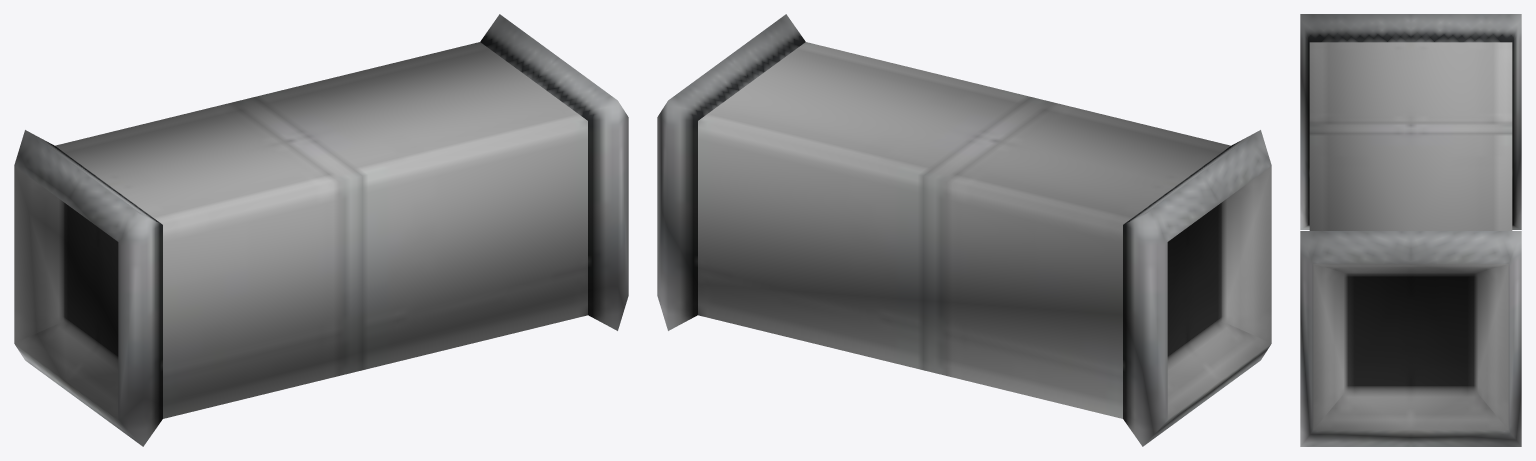
Rendered from Part - Tube 05 half-C6QrPu98.glb.
The picture shows the model from 3 angles, left to right: view 1: azimuth 30°, elevation 25°; view 2: azimuth 150°, elevation 25°; view 3: azimuth 270°, elevation 25°; orthographic projection. The views are drawn at different scales.
Visible parts, largest first — view 1: Tube_05_half; view 2: Tube_05_half; view 3: Tube_05_half.
Part boxes in pixels (box(x1,y1,x2,y2)): Tube_05_half: box(14, 14, 628, 446); Tube_05_half: box(657, 14, 1271, 446); Tube_05_half: box(1300, 14, 1521, 446).
Size of the model in its own units: 1.09 by 0.4712 by 0.4375.
Materials: 1 (1 with a texture image).
